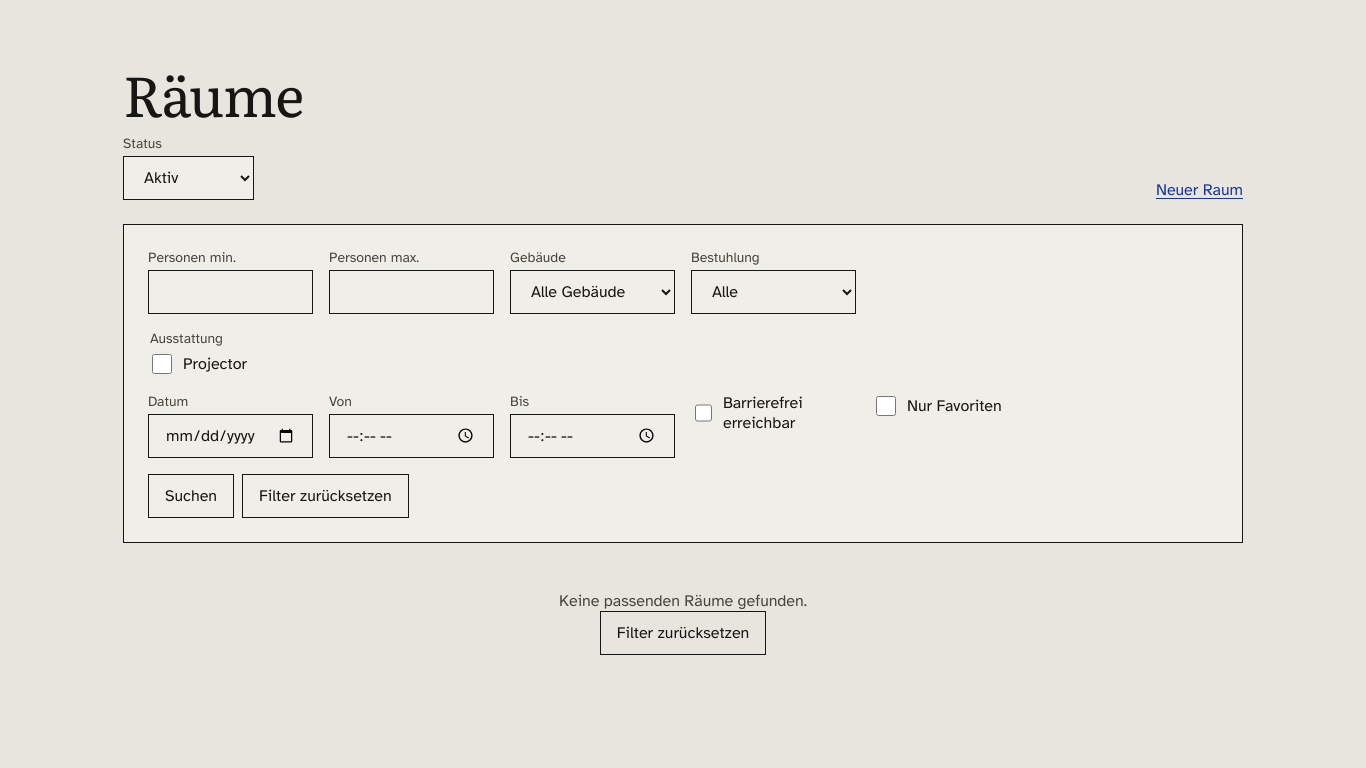
Test: RoomListPage › never lets an older, slower search response overwrite a newer one
Type "20" into the number field labelled "Personen min.". click: (230, 292)
box: top-left (148, 270), bottom-right (313, 314)
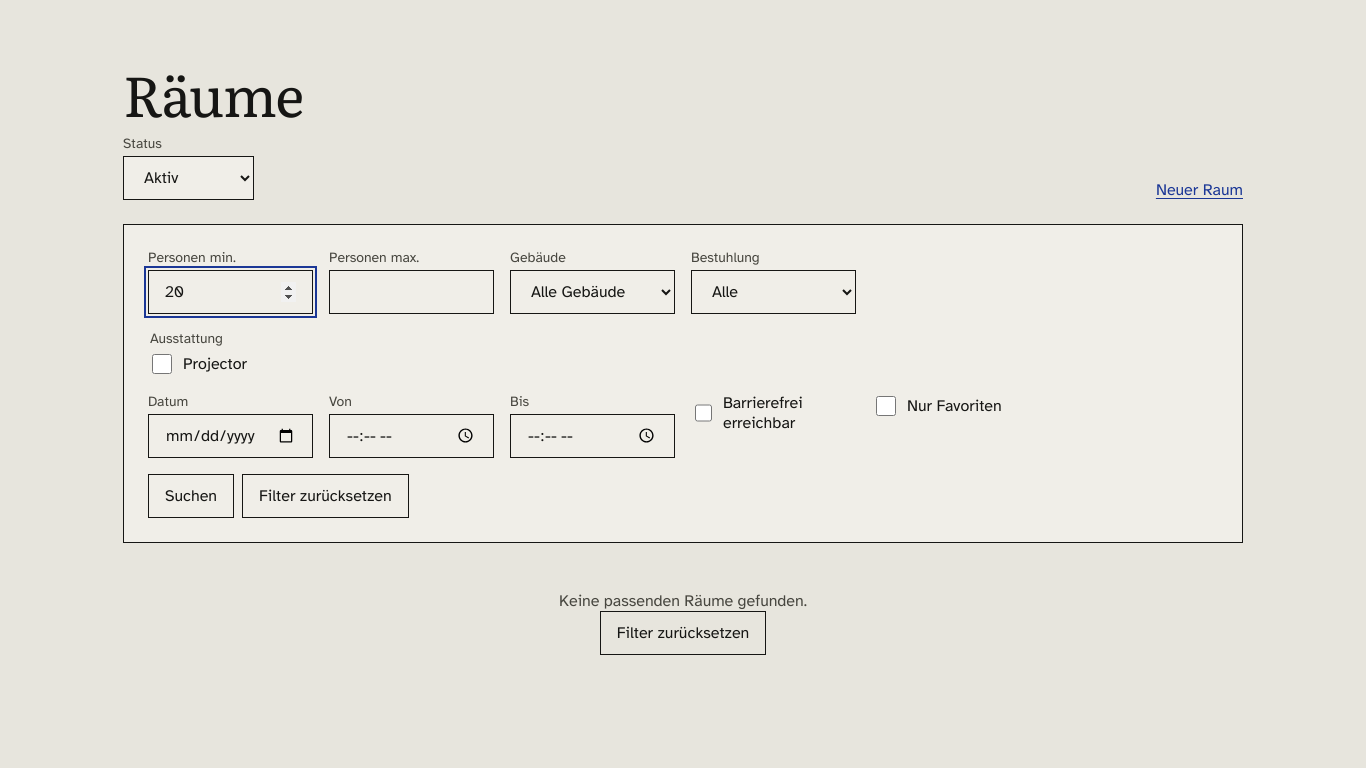
Click the button "Suchen". click: (191, 496)
box: top-left (148, 474), bottom-right (234, 518)
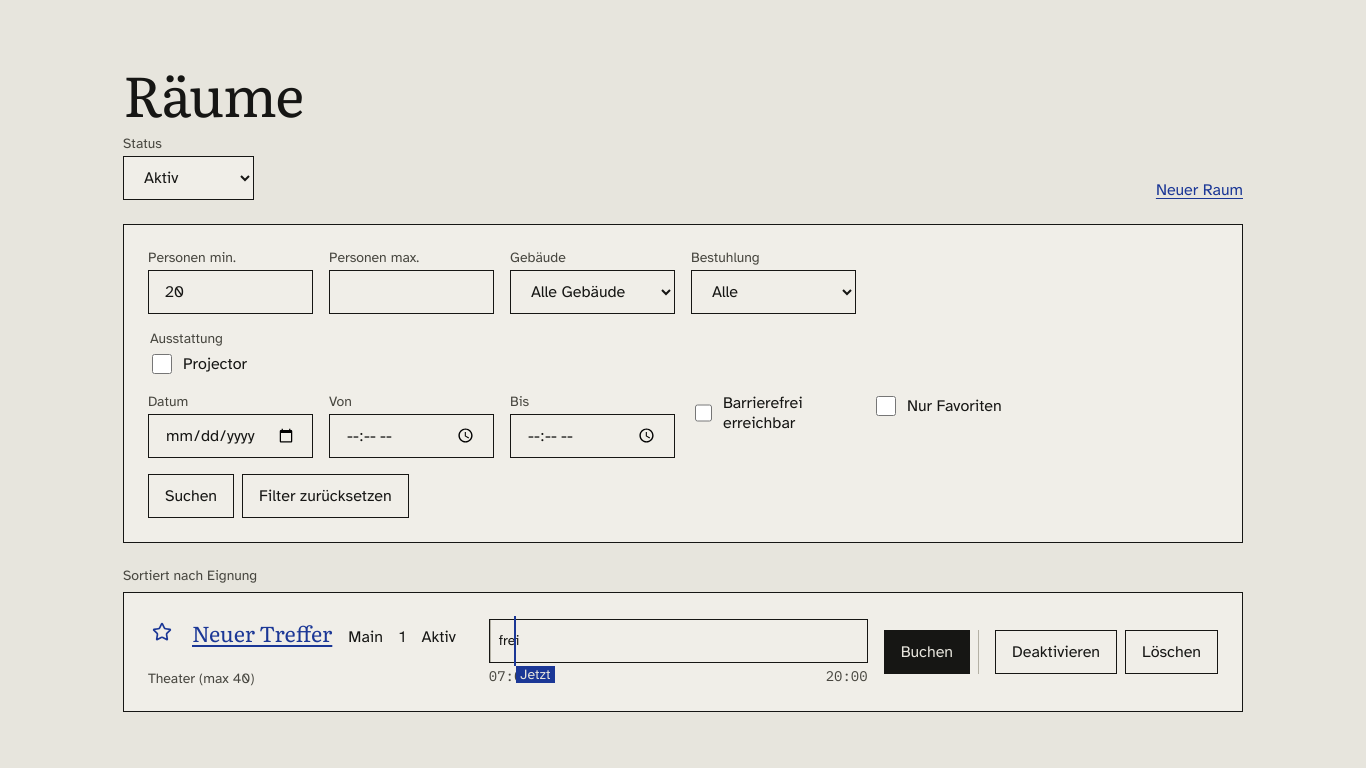
expect the link "Neuer Treffer" is shown: met, box top-left (192, 617), bottom-right (332, 649)
